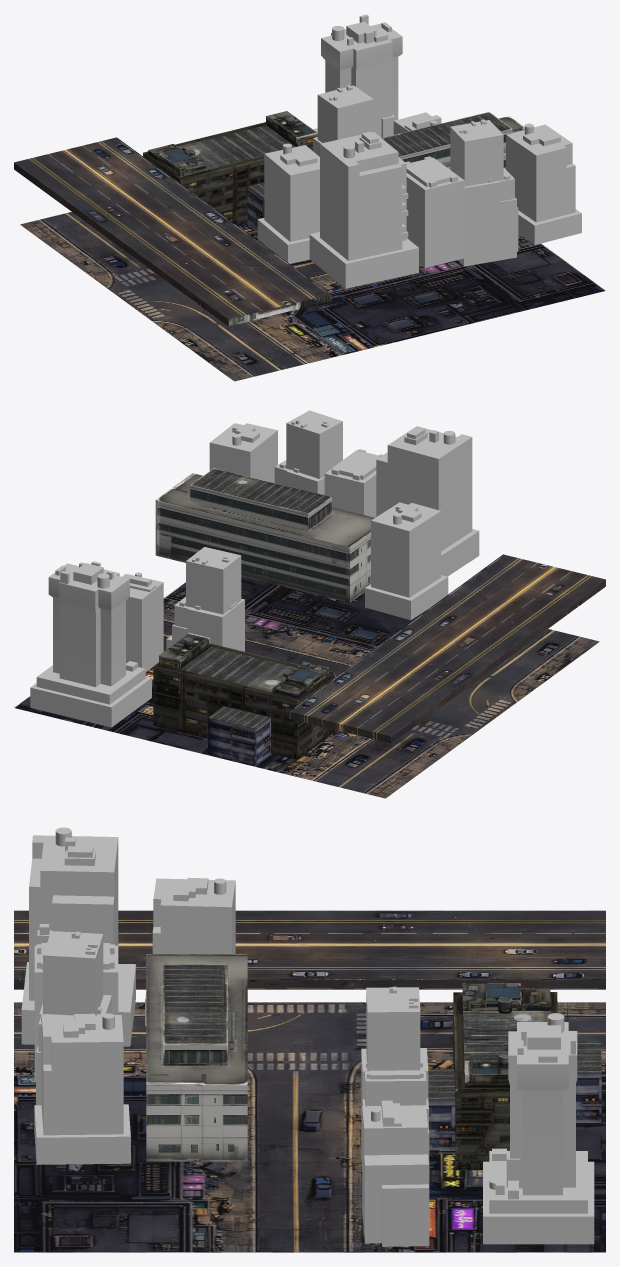
Rendered from CP_Slums_Pack_100x100_02.fbx.
3 views of the same model, one above another, from view 1: azimuth 30°, elevation 25°; view 2: azimuth 150°, elevation 25°; view 3: azimuth 270°, elevation 25° (orthographic). The views are drawn at different scales.
Visible parts, largest first — view 1: CP_Slums_Pack_100x100_02; view 2: CP_Slums_Pack_100x100_02; view 3: CP_Slums_Pack_100x100_02.
Boxes of the visible parts, x1,y1,x2,y2 form: CP_Slums_Pack_100x100_02: [14, 14, 605, 381]; CP_Slums_Pack_100x100_02: [14, 410, 605, 798]; CP_Slums_Pack_100x100_02: [14, 827, 605, 1252].
Size of the model in its own units: 10158 by 4870 by 10000.
